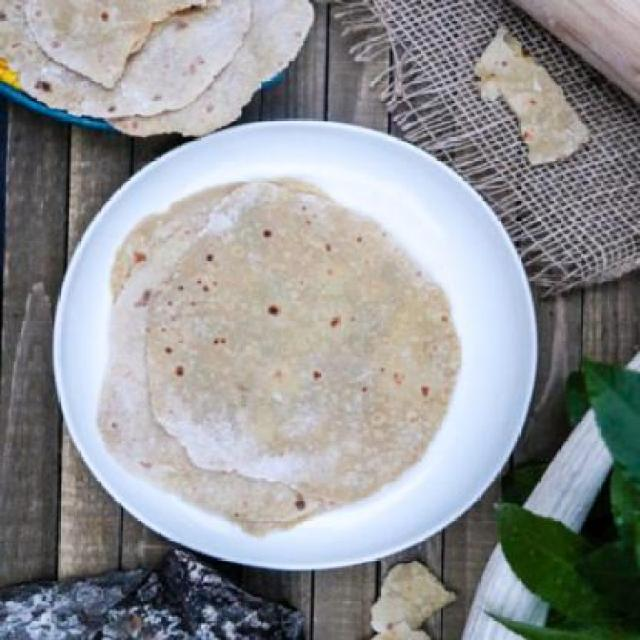chapati: (98, 178, 460, 536), (0, 0, 252, 121), (108, 1, 314, 137)
